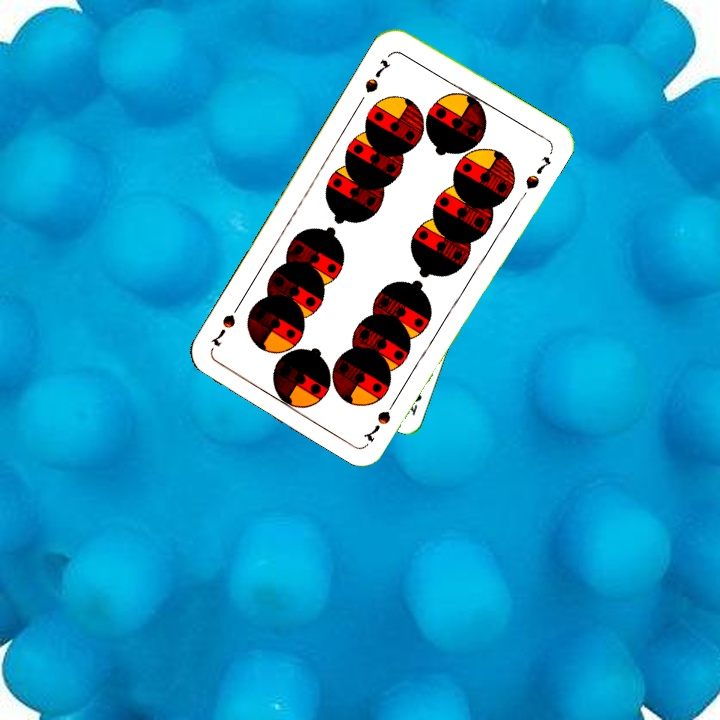S7: (361, 392, 401, 445), (360, 55, 394, 96)
